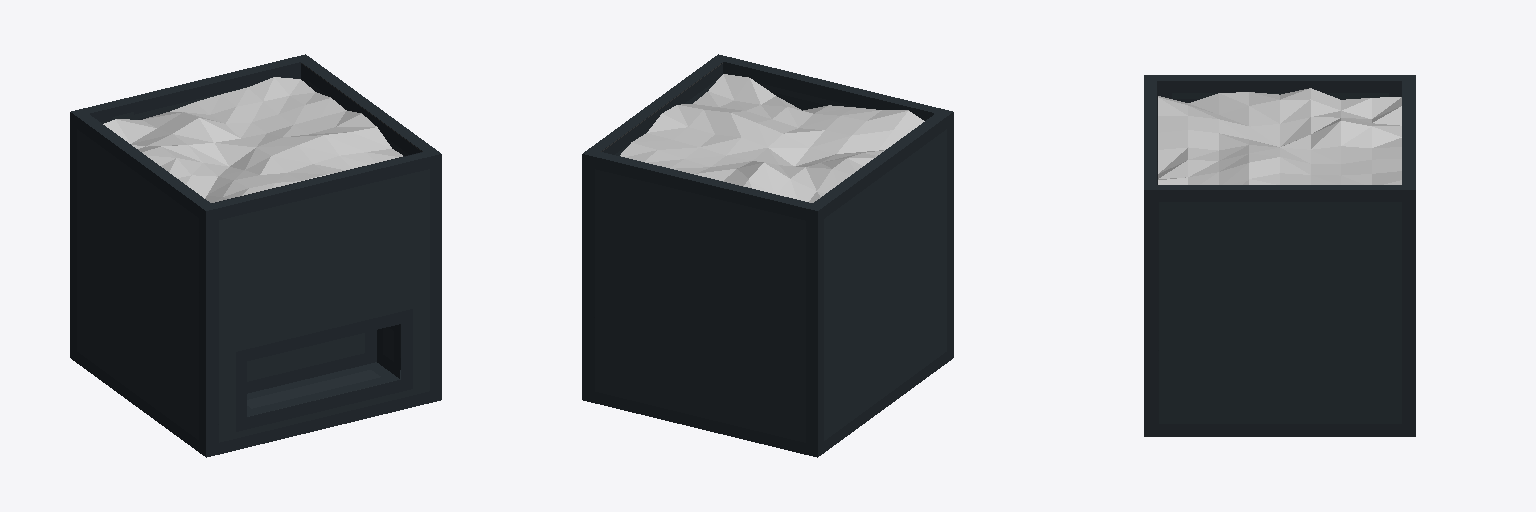
3 renders of one model, left to right at view 1: azimuth 30°, elevation 25°; view 2: azimuth 150°, elevation 25°; view 3: azimuth 270°, elevation 25°, orthographic.
Visible parts, largest first — view 1: Furnace_Cube, CoalSurface_Plane; view 2: Furnace_Cube, CoalSurface_Plane; view 3: Furnace_Cube, CoalSurface_Plane.
Boxes of the visible parts, <box> form: Furnace_Cube: <box>70,54,441,457</box>; CoalSurface_Plane: <box>103,77,402,202</box>; Furnace_Cube: <box>582,54,953,457</box>; CoalSurface_Plane: <box>620,74,924,202</box>; Furnace_Cube: <box>1144,75,1415,436</box>; CoalSurface_Plane: <box>1158,88,1401,184</box>.
Bounding box in the file's own units: 1 × 1 × 1.
Materials: 2 (1 with a texture image).